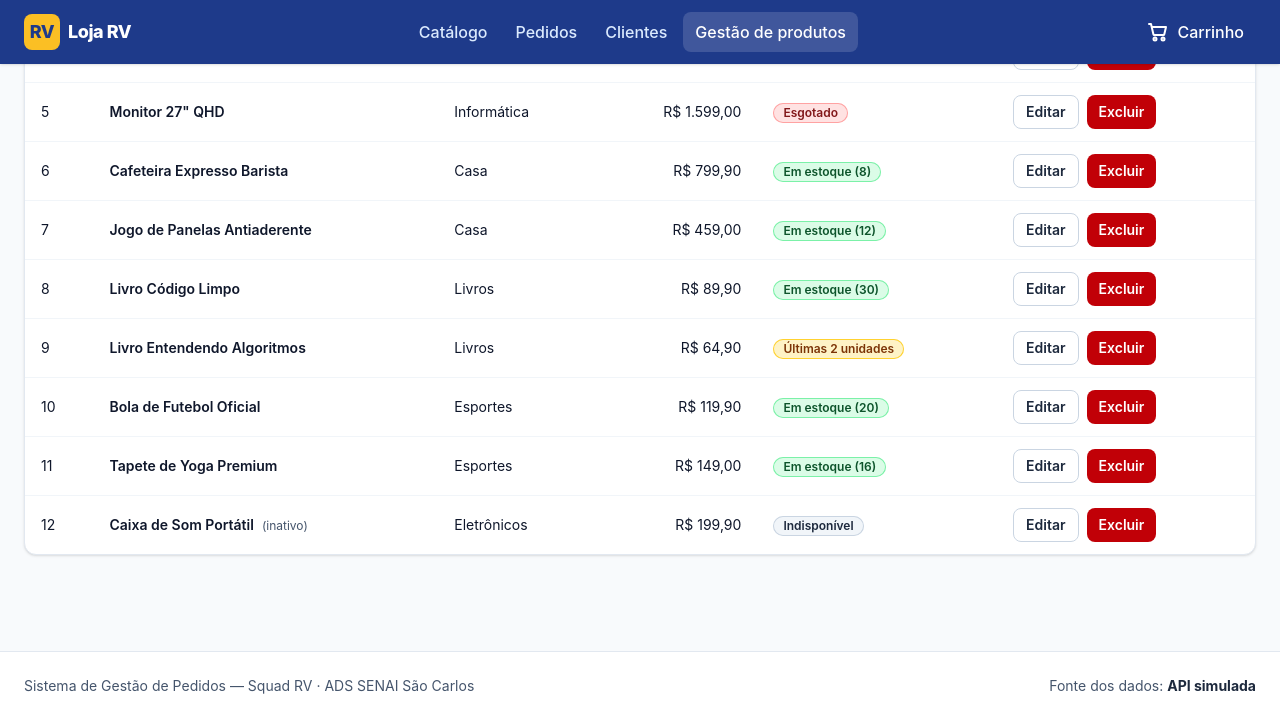
Gestão de produtos › avisa que produto já vendido não pode ser excluído
(page scrolled)
Click the button with aria-label "Excluir Tapete de Yoga Premium" at (1122, 466), box left=1087, top=449, right=1156, bottom=483
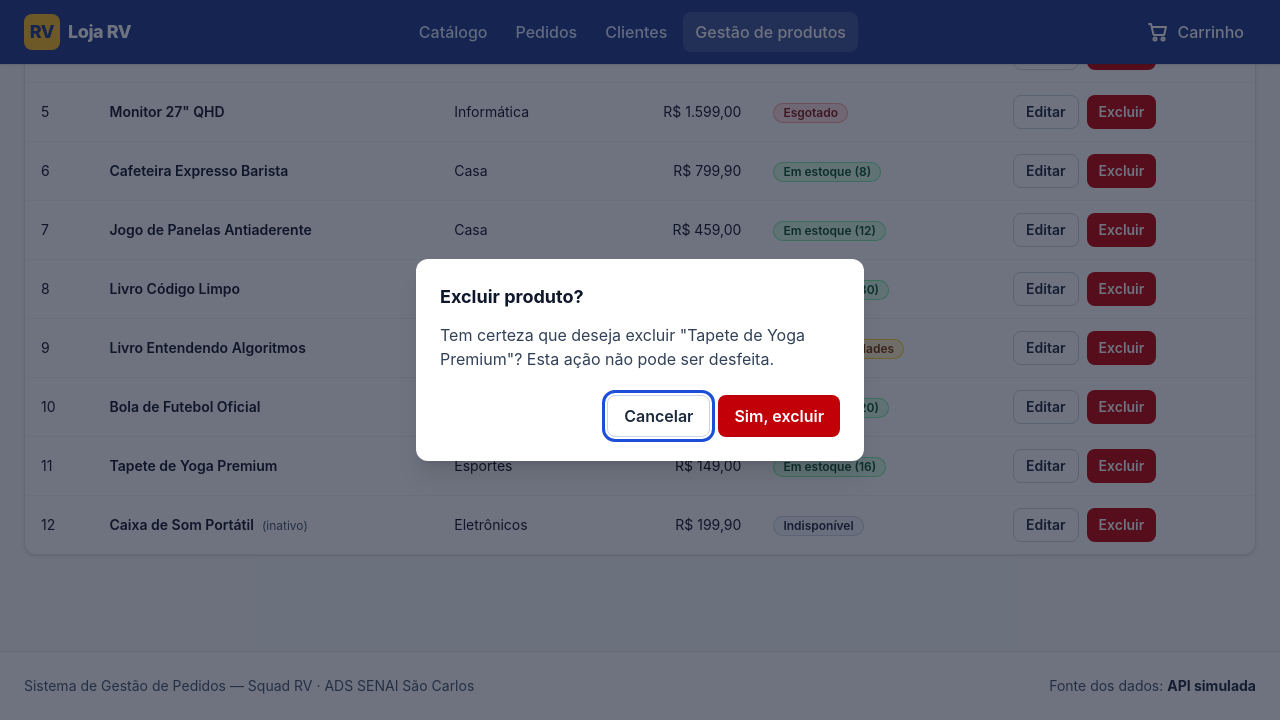
Click the button "Sim, excluir" at (779, 416), box left=718, top=395, right=840, bottom=437
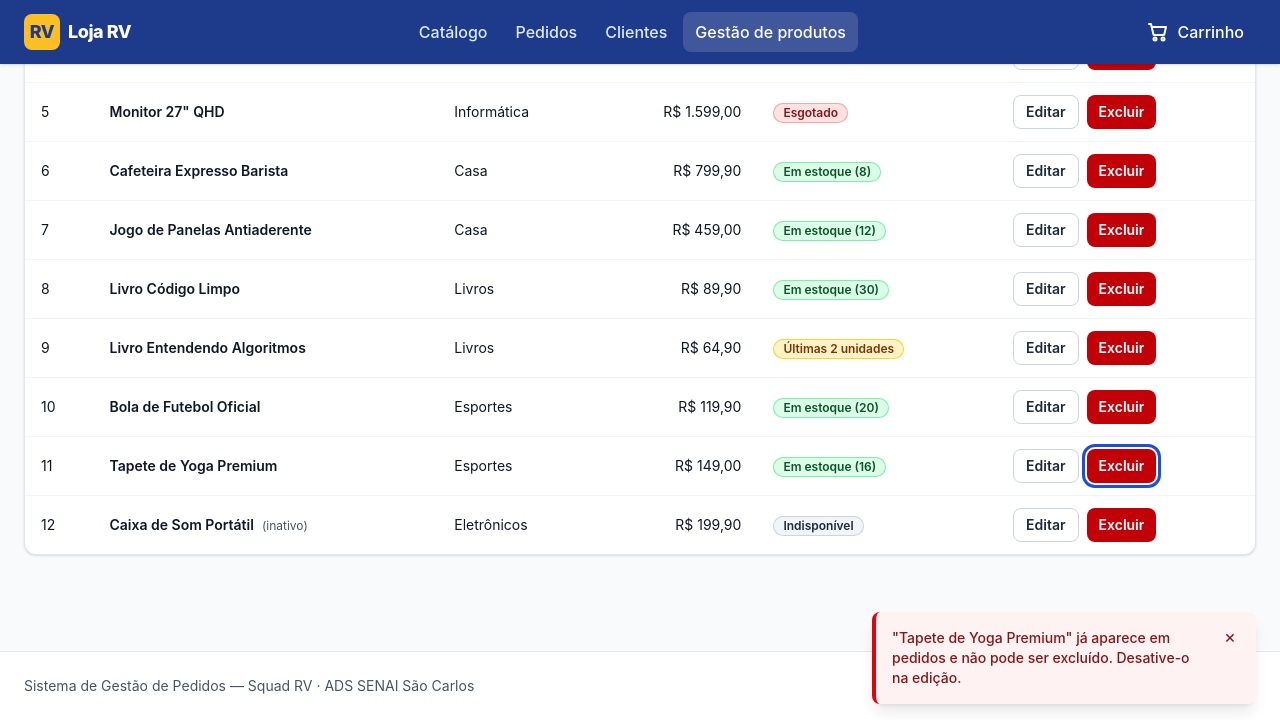
expect the text "já aparece em pedidos" is shown: met, box left=892, top=629, right=1190, bottom=686
